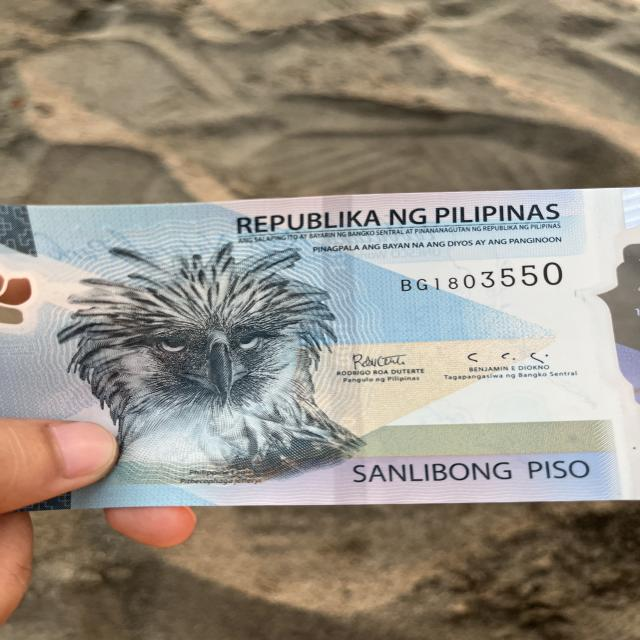eagle: (49, 225, 373, 493)
